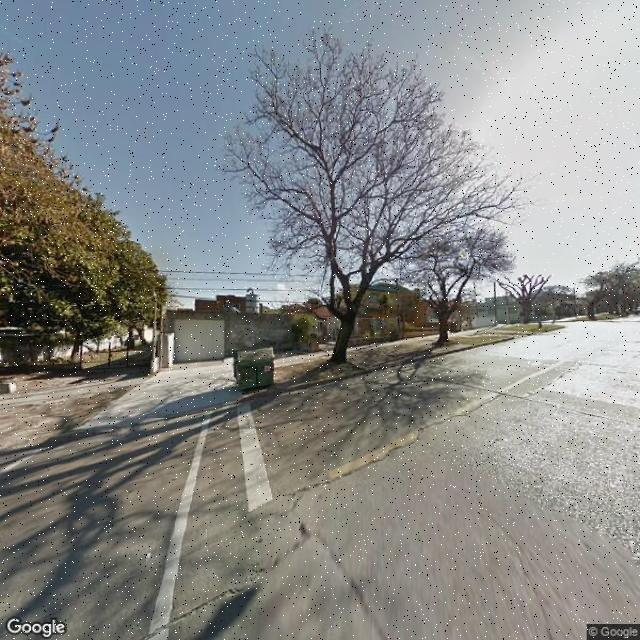garbage container: (227, 342, 282, 400)
